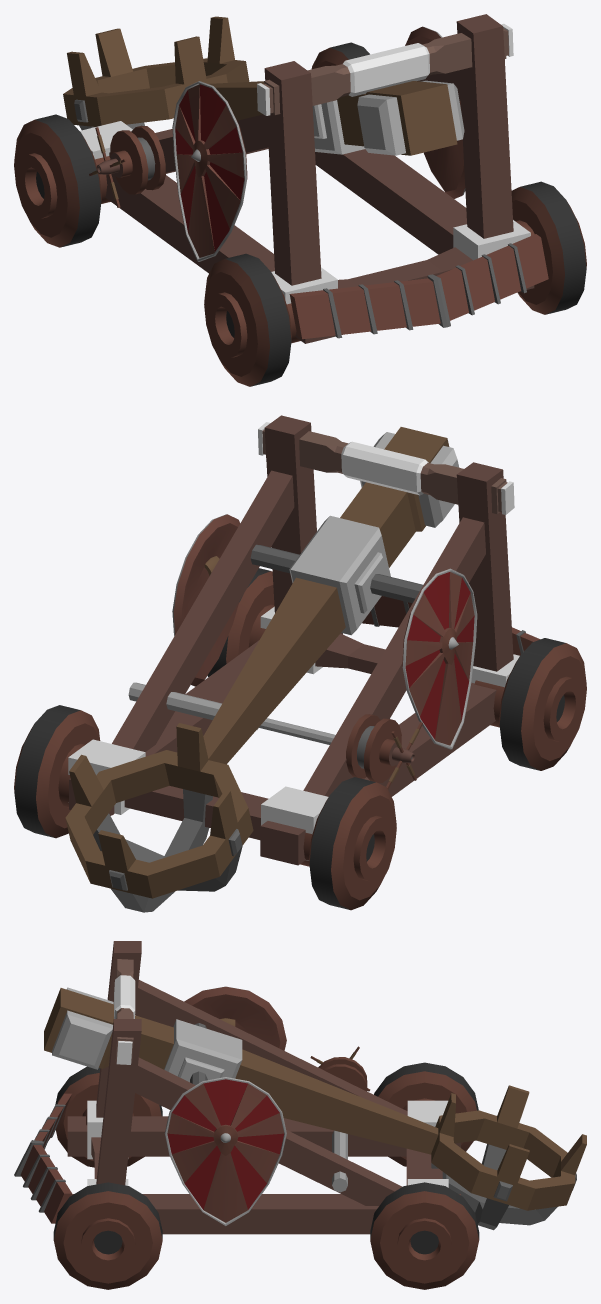
File: catapulta.gltf
3 views of the same model, one above another, from view 1: azimuth 30°, elevation 25°; view 2: azimuth 150°, elevation 25°; view 3: azimuth 270°, elevation 25° (orthographic). The views are drawn at different scales.
Visible parts, largest first — view 1: Cube.006, Cube.001; view 2: Cube.006, Cube.001; view 3: Cube.006, Cube.001.
Part boxes in pixels (left/top/right/bottom): Cube.006: left=14, top=14, right=586, bottom=386; Cube.001: left=63, top=16, right=464, bottom=155; Cube.006: left=14, top=415, right=586, bottom=910; Cube.001: left=65, top=427, right=459, bottom=912; Cube.006: left=14, top=941, right=479, bottom=1289; Cube.001: left=44, top=987, right=586, bottom=1230.
Bounding box in the file's own units: 0.6947 × 0.56 × 1.21.
